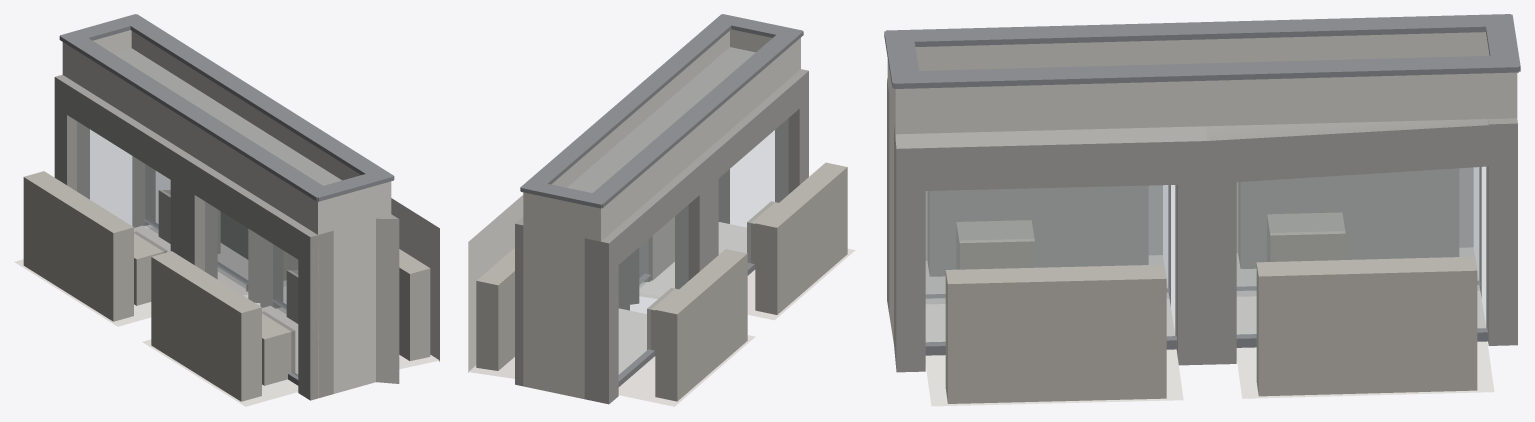
Rendered from d12-bldg-fa8eb7fc-inferred.glb.
3 views of the same model, side by side, from view 1: azimuth 30°, elevation 25°; view 2: azimuth 150°, elevation 25°; view 3: azimuth 270°, elevation 25° (orthographic). The views are drawn at different scales.
Visible parts, largest first — view 1: INFERRED_ground.001; view 2: INFERRED_ground.001; view 3: INFERRED_ground.001.
Boxes of the visible parts, bbox=[...] form: INFERRED_ground.001: bbox=[14, 14, 439, 406]; INFERRED_ground.001: bbox=[468, 14, 855, 406]; INFERRED_ground.001: bbox=[884, 14, 1520, 406].
Size of the model in its own units: 4.21 by 3.77 by 7.59.
Materials: 3 (1 with a texture image).
